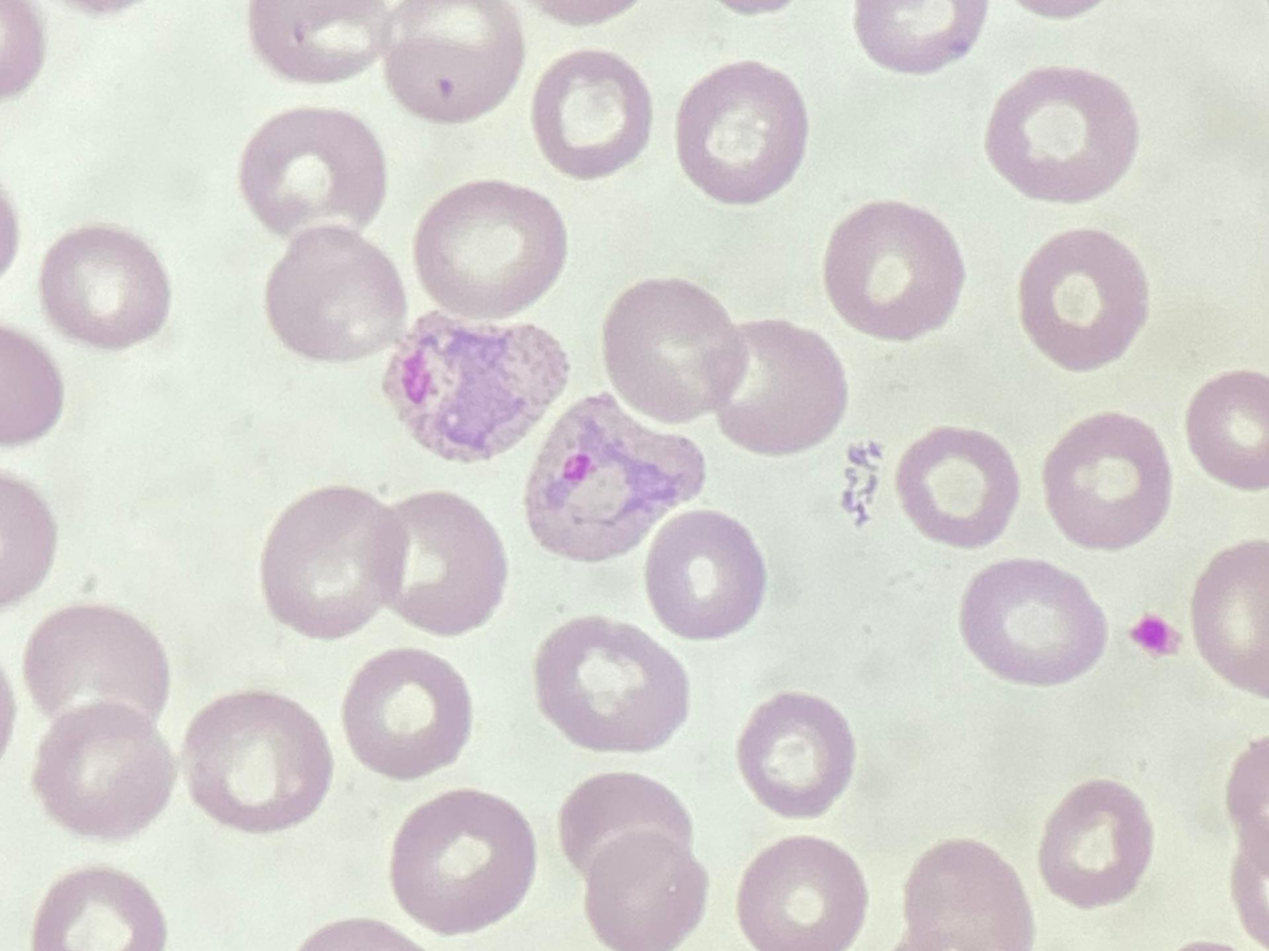Infected: (524, 392, 708, 565), (383, 309, 572, 461)
Uninfected: (261, 484, 405, 643), (359, 488, 508, 639), (413, 179, 570, 321), (388, 787, 539, 934), (534, 620, 693, 754), (985, 66, 1140, 202), (185, 689, 331, 832), (601, 281, 745, 425), (707, 318, 851, 460), (31, 701, 175, 841), (23, 603, 173, 737), (823, 200, 967, 339), (261, 223, 405, 361), (240, 106, 383, 242), (960, 555, 1107, 687), (1015, 230, 1153, 370), (677, 60, 806, 207), (383, 0, 527, 123), (38, 223, 173, 351), (1048, 415, 1172, 551), (344, 650, 474, 778), (896, 423, 1024, 549), (641, 513, 767, 639), (532, 47, 651, 180), (735, 693, 859, 820), (558, 772, 693, 888), (901, 838, 1038, 951), (1034, 777, 1153, 905), (735, 835, 866, 951), (582, 828, 708, 946), (245, 0, 399, 82), (1188, 370, 1269, 490)
